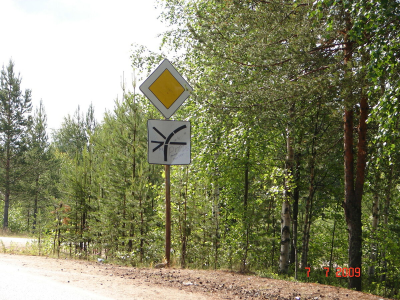priority_road: (143, 63, 188, 115)
